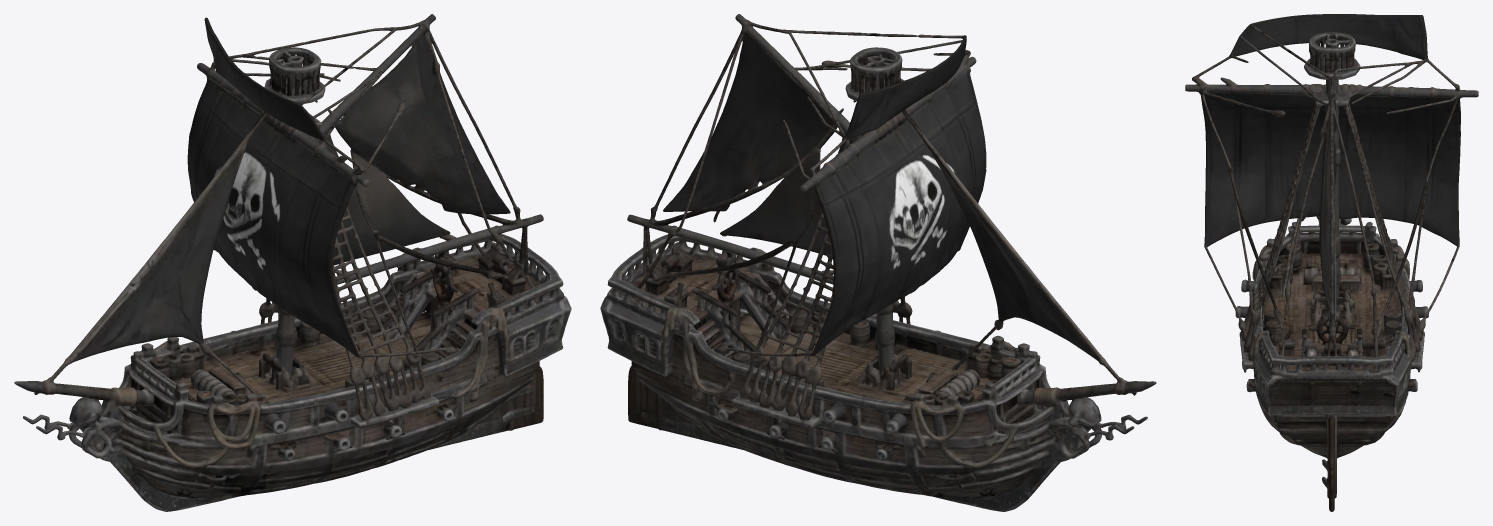
Rendered from Raider Sloop.glb.
3 renders of one model, left to right at view 1: azimuth 30°, elevation 25°; view 2: azimuth 150°, elevation 25°; view 3: azimuth 270°, elevation 25°, orthographic. The views are drawn at different scales.
Parts seen in each view (by area): view 1: geometry_0; view 2: geometry_0; view 3: geometry_0.
Part boxes in pixels (x1,y1,x2,y2): geometry_0: (14,14,571,511); geometry_0: (600,14,1156,511); geometry_0: (1185,14,1478,511).
Size of the model in its own units: 0.9975 by 0.7844 by 0.5536.
1 material, 1 textured.
